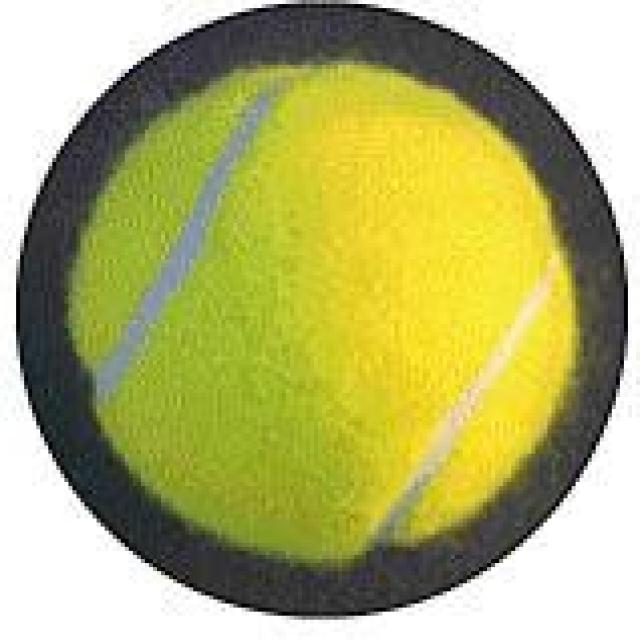Tennis Ball: (76, 57, 576, 563)
